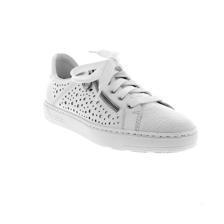Feet: (57, 53, 215, 204)
